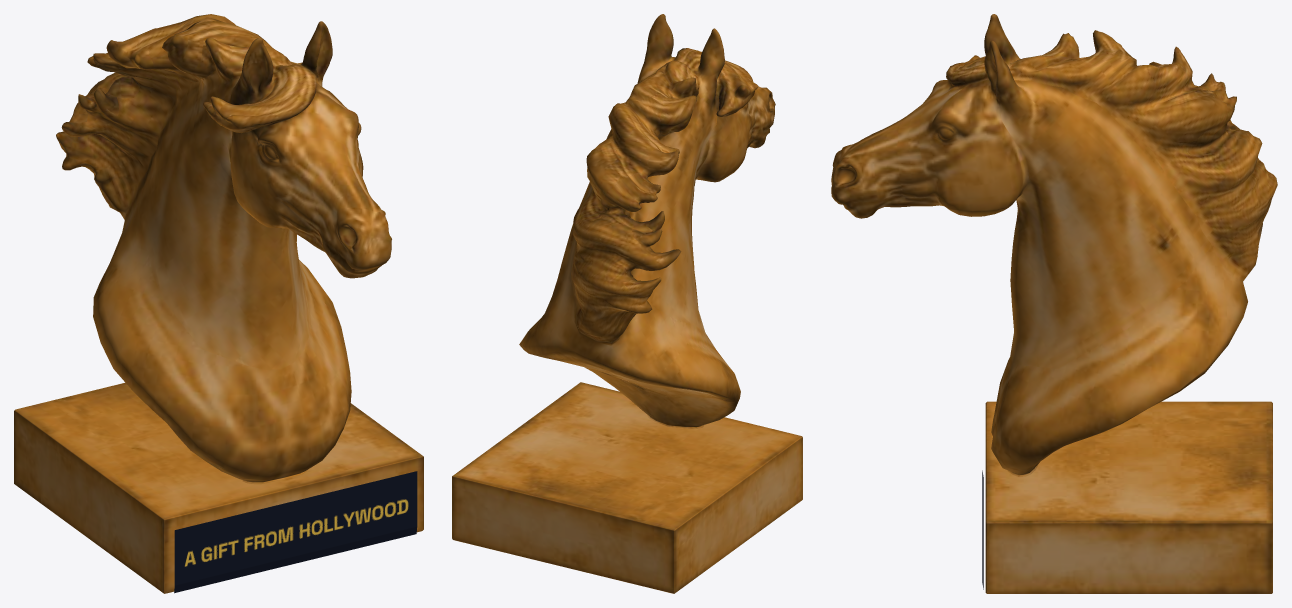
File: nyb_godfather_horse.glb
The picture shows the model from 3 angles, left to right: view 1: azimuth 30°, elevation 25°; view 2: azimuth 150°, elevation 25°; view 3: azimuth 270°, elevation 25°; orthographic projection. The views are drawn at different scales.
Visible parts, largest first — view 1: horse_head, stk_lbl_2e866ef1fc.png; view 2: horse_head; view 3: horse_head.
Boxes of the visible parts, x1,y1,x2,y2 form: horse_head: (14,14,423,593); stk_lbl_2e866ef1fc.png: (174,471,417,593); horse_head: (452,14,802,593); horse_head: (831,14,1277,593).
Size of the model in its own units: 0.2149 by 0.4187 by 0.3341.
2 materials, 2 textured.
